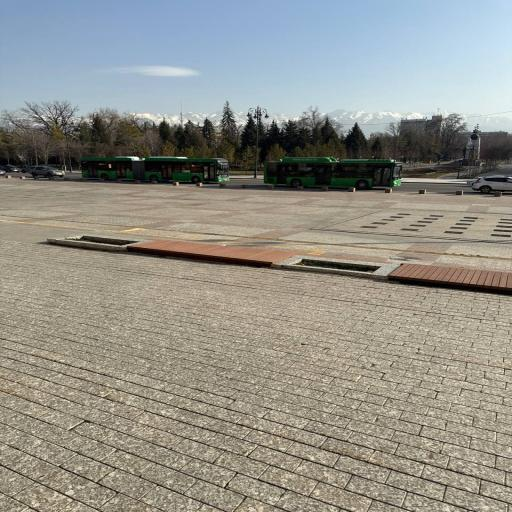bicycle: (264, 158, 401, 189), (82, 157, 229, 182)
bottle: (472, 176, 511, 193)
trash_bin: (45, 222, 512, 292)
